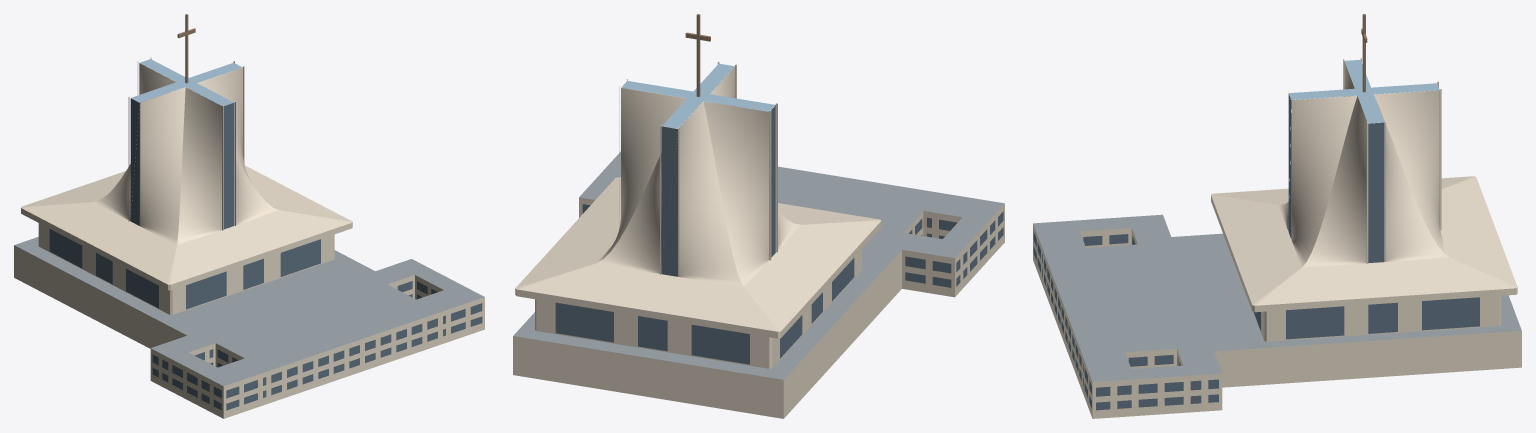
The picture shows the model from 3 angles, left to right: view 1: azimuth 30°, elevation 25°; view 2: azimuth 150°, elevation 25°; view 3: azimuth 270°, elevation 25°; orthographic projection. The views are drawn at different scales.
Parts seen in each view (by area): view 1: cathedral-of-saint-mary-of-the-assumption; view 2: cathedral-of-saint-mary-of-the-assumption; view 3: cathedral-of-saint-mary-of-the-assumption.
Boxes of the visible parts, x1,y1,x2,y2 form: cathedral-of-saint-mary-of-the-assumption: (14,14,484,418); cathedral-of-saint-mary-of-the-assumption: (513,14,1004,418); cathedral-of-saint-mary-of-the-assumption: (1033,14,1521,418).
Bounding box in the file's own units: 111 × 94.5 × 137.
